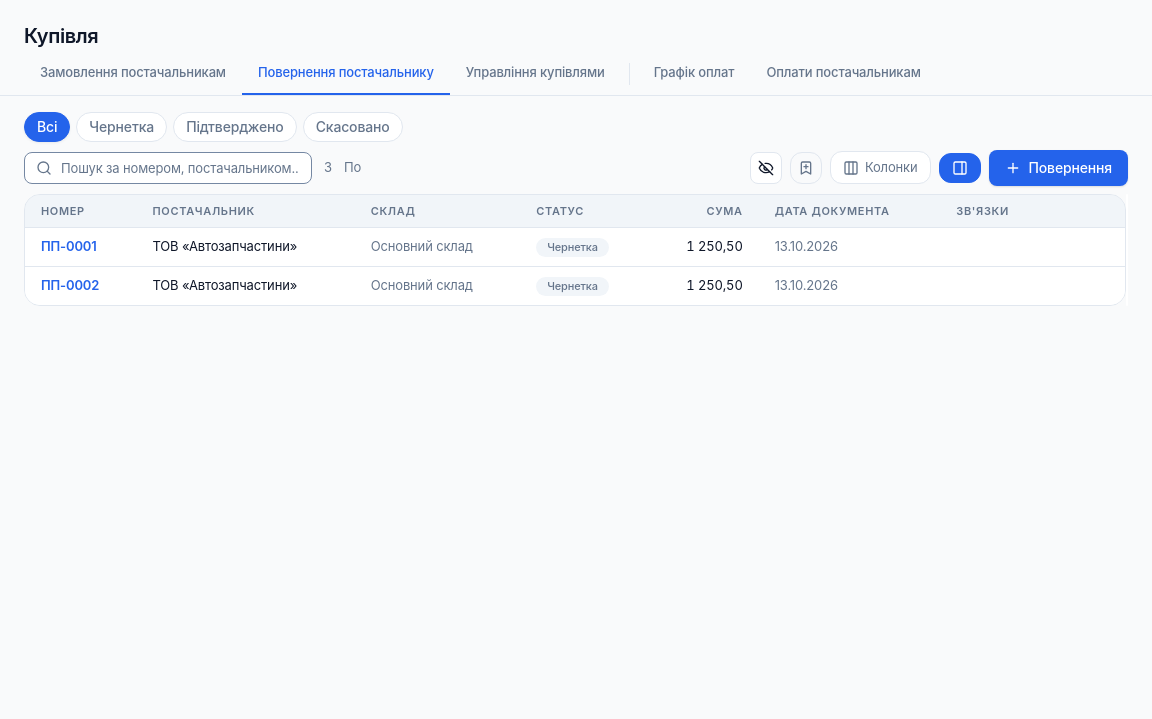
Scenario: Закупівлі — бокова панель повернень і зведення › поля панелі повернення — зі схеми: номер, статус, постачальник, склад, дата, сума, позицій
The width and height of the screenshot is (1152, 719).
Expected: the link "ПП-0001" is shown, [41,238,97,254]
Click the text "ПП-0001": x=575, y=247 [25,228,1125,266]
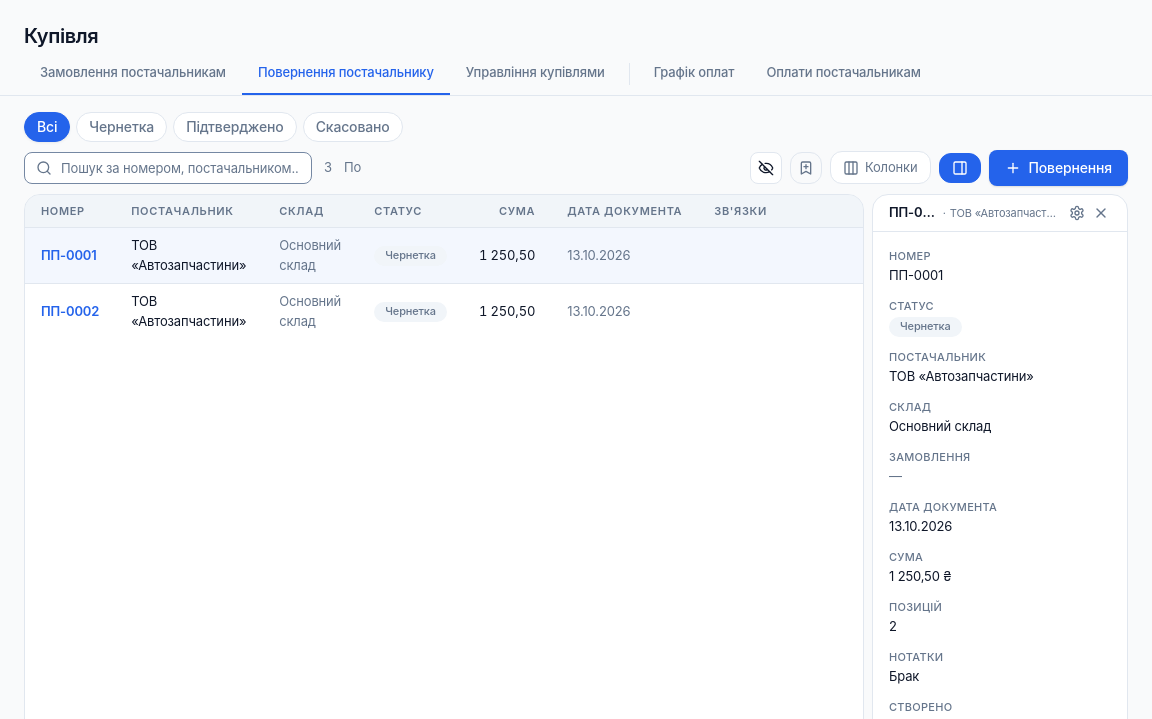
Expected: the text "Номер" is shown, [889,248,931,262]
Expected: the text "Статус" is shown, [889,298,934,312]
Expected: the text "Постачальник" is shown, [889,350,986,364]
